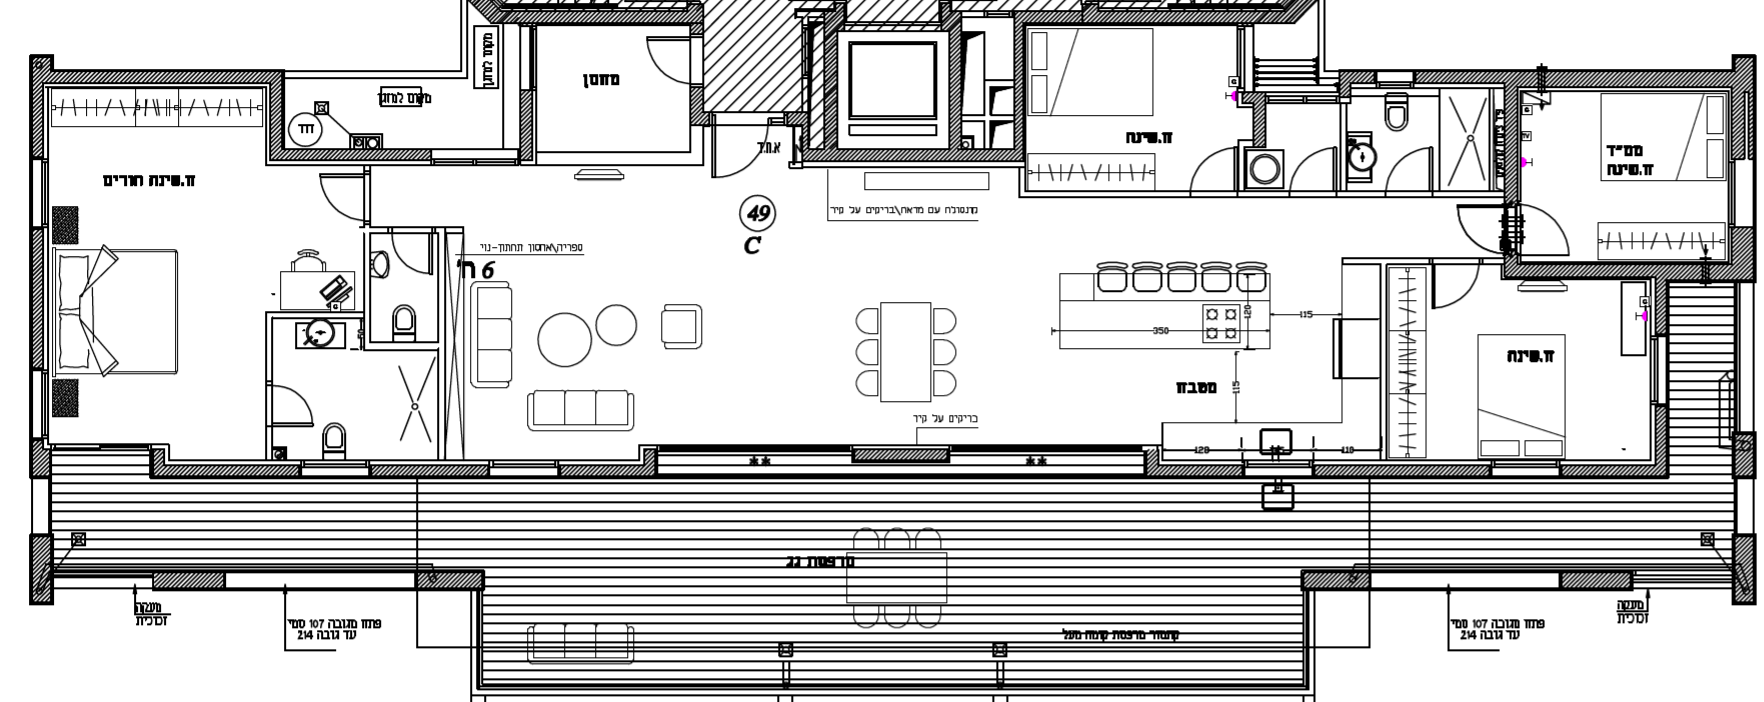door: (708, 133, 771, 183), (639, 31, 684, 91), (1528, 198, 1573, 258), (1384, 139, 1437, 187), (1429, 273, 1487, 315), (316, 169, 355, 228), (1452, 201, 1495, 253), (1187, 142, 1235, 186), (276, 380, 318, 429), (390, 241, 435, 286), (1288, 143, 1336, 184)
wall: (1504, 262, 1753, 280), (1546, 70, 1749, 85), (33, 70, 283, 82), (503, 10, 702, 22), (1417, 69, 1539, 83), (274, 148, 430, 160), (31, 227, 44, 368), (152, 463, 300, 475), (1316, 466, 1487, 475), (853, 448, 949, 461), (30, 58, 43, 156), (153, 571, 224, 588), (418, 570, 484, 588), (1305, 571, 1368, 589), (559, 463, 656, 475), (371, 465, 487, 474), (1561, 466, 1666, 475), (1561, 573, 1630, 586), (1147, 466, 1241, 475), (520, 90, 532, 157), (1657, 406, 1667, 471), (1254, 93, 1264, 146)
window: (431, 155, 520, 171), (1491, 454, 1559, 472), (1264, 93, 1336, 108), (1244, 457, 1313, 471), (38, 157, 52, 227), (38, 370, 52, 439), (1648, 336, 1660, 405), (1375, 78, 1413, 91)
